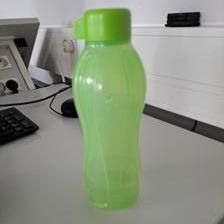bottle: (71, 5, 147, 212)
